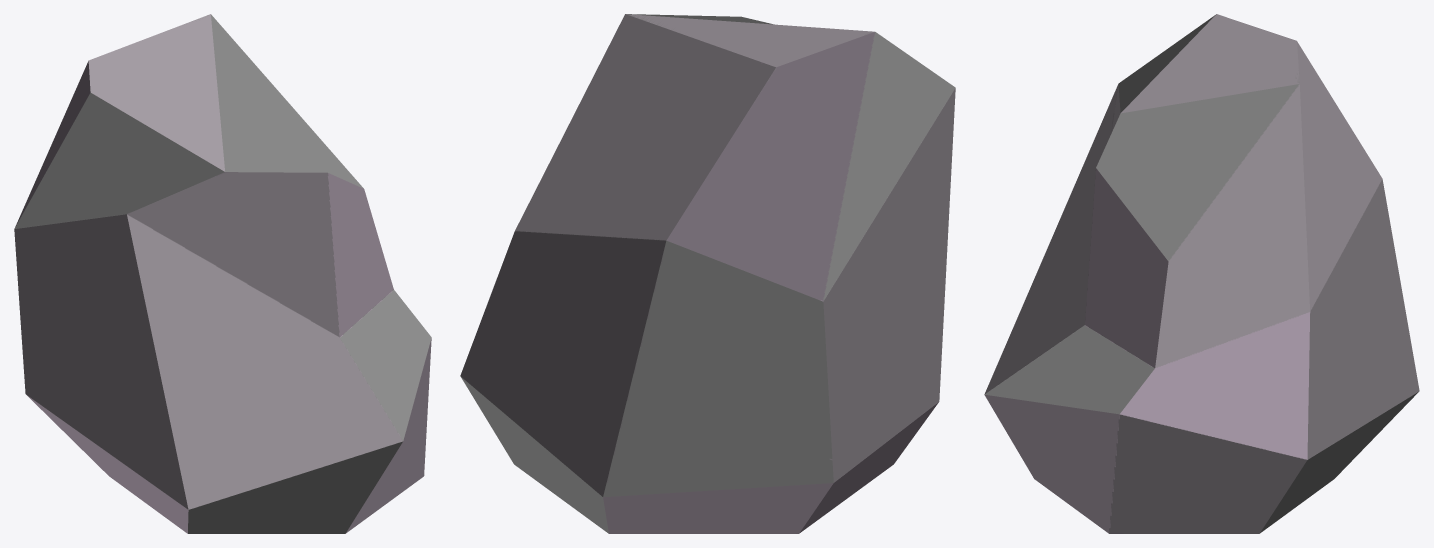
Rendered from rocha-3.fbx.
The picture shows the model from 3 angles, left to right: view 1: azimuth 30°, elevation 25°; view 2: azimuth 150°, elevation 25°; view 3: azimuth 270°, elevation 25°; orthographic projection. The views are drawn at different scales.
Parts seen in each view (by area): view 1: rocha-3; view 2: rocha-3; view 3: rocha-3.
Boxes of the visible parts, bbox=[...] form: rocha-3: bbox=[14, 14, 431, 533]; rocha-3: bbox=[460, 14, 955, 533]; rocha-3: bbox=[984, 14, 1419, 533].
Size of the model in its own units: 162 by 206 by 205.
